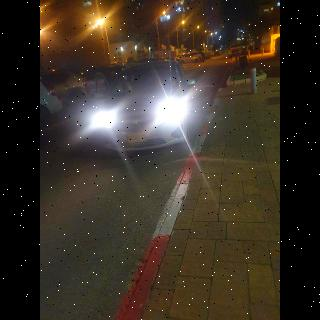LicensePlate: (128, 134, 146, 142)
